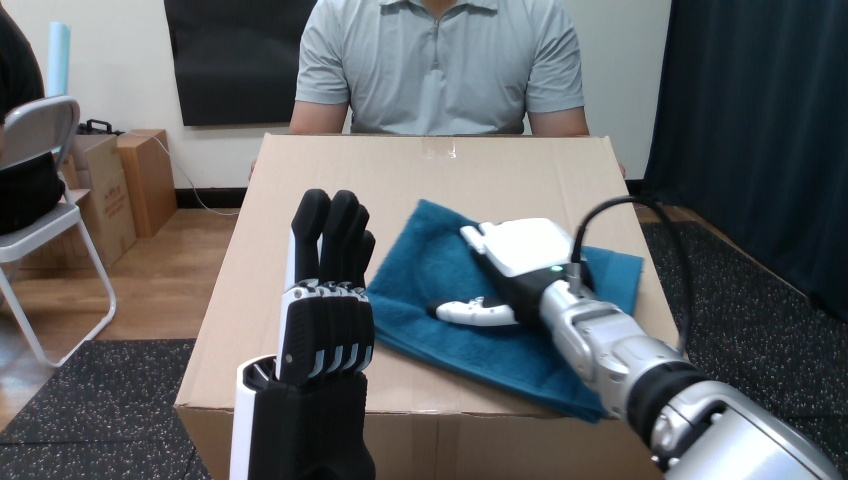left robot hand: (675, 221, 847, 478), (230, 189, 374, 479)
